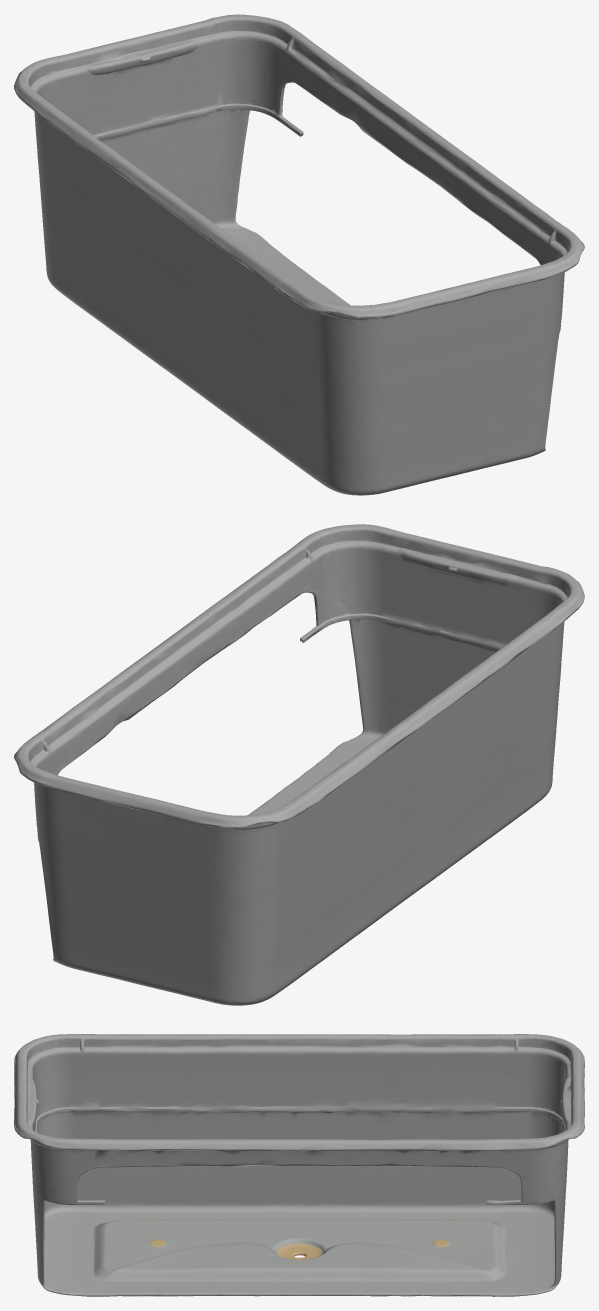
Rendered from cart_white.glb.
The picture shows the model from 3 angles, top to bottom: view 1: azimuth 30°, elevation 25°; view 2: azimuth 150°, elevation 25°; view 3: azimuth 270°, elevation 25°; orthographic projection. The views are drawn at different scales.
Parts seen in each view (by area): view 1: tripo_node_459f43a2-61cd-4542-ad98-b597009bd988; view 2: tripo_node_459f43a2-61cd-4542-ad98-b597009bd988; view 3: tripo_node_459f43a2-61cd-4542-ad98-b597009bd988.
Part boxes in pixels (left/top/right/bottom): tripo_node_459f43a2-61cd-4542-ad98-b597009bd988: left=14, top=14, right=584, bottom=495; tripo_node_459f43a2-61cd-4542-ad98-b597009bd988: left=14, top=524, right=584, bottom=1005; tripo_node_459f43a2-61cd-4542-ad98-b597009bd988: left=14, top=1034, right=584, bottom=1296.
Bounding box in the file's own units: 0.4653 × 0.3282 × 1.
1 material, 1 textured.
